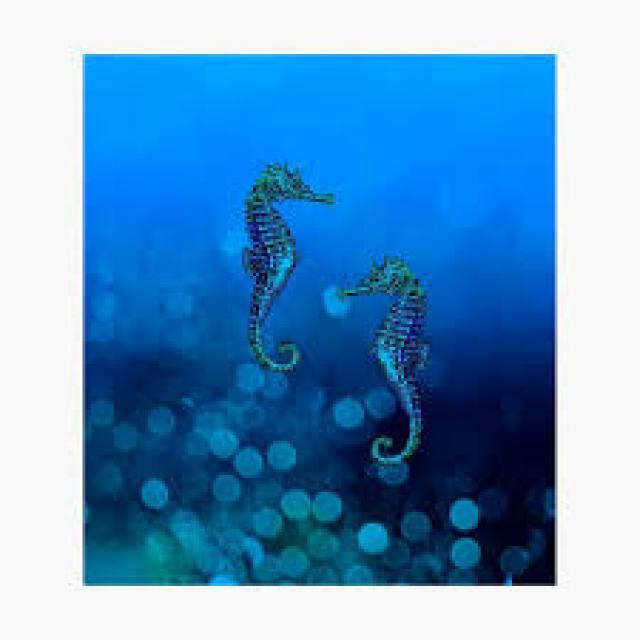SeaHorse: (338, 256, 429, 489), (242, 162, 336, 376)
